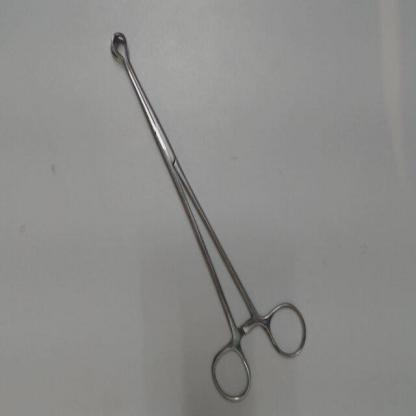8 Babcock Tissue Forceps: (105, 24, 312, 409)
